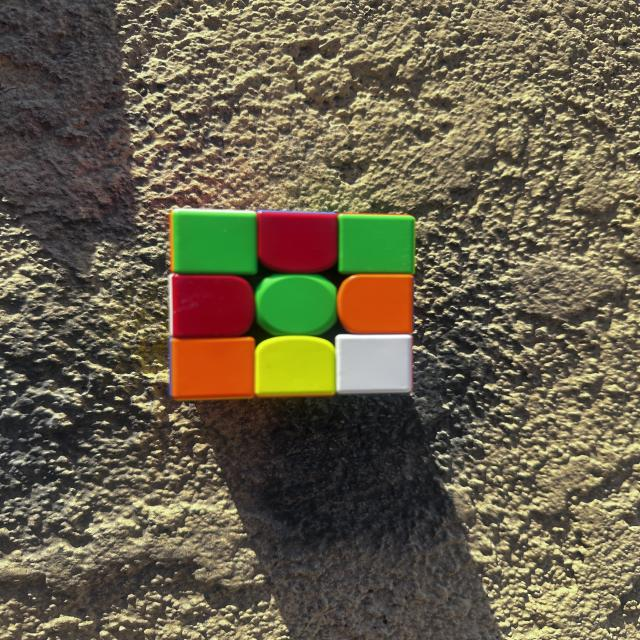sticker: (179, 211, 257, 270), (174, 342, 252, 394), (340, 216, 412, 272), (172, 280, 252, 330), (260, 341, 333, 392), (264, 217, 334, 270), (266, 278, 332, 333), (340, 338, 409, 390), (345, 279, 410, 331)
